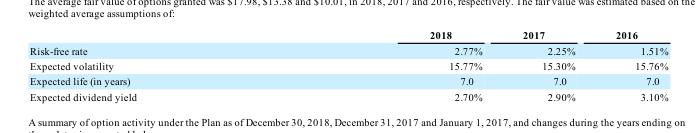table: (29, 28, 667, 101)
table column: (29, 28, 282, 101), (282, 28, 501, 101), (501, 28, 594, 101), (594, 28, 667, 101)
table column header: (29, 28, 667, 42)
table row: (29, 57, 667, 73), (29, 42, 667, 57), (29, 73, 667, 88), (29, 28, 667, 42), (29, 88, 667, 101)
